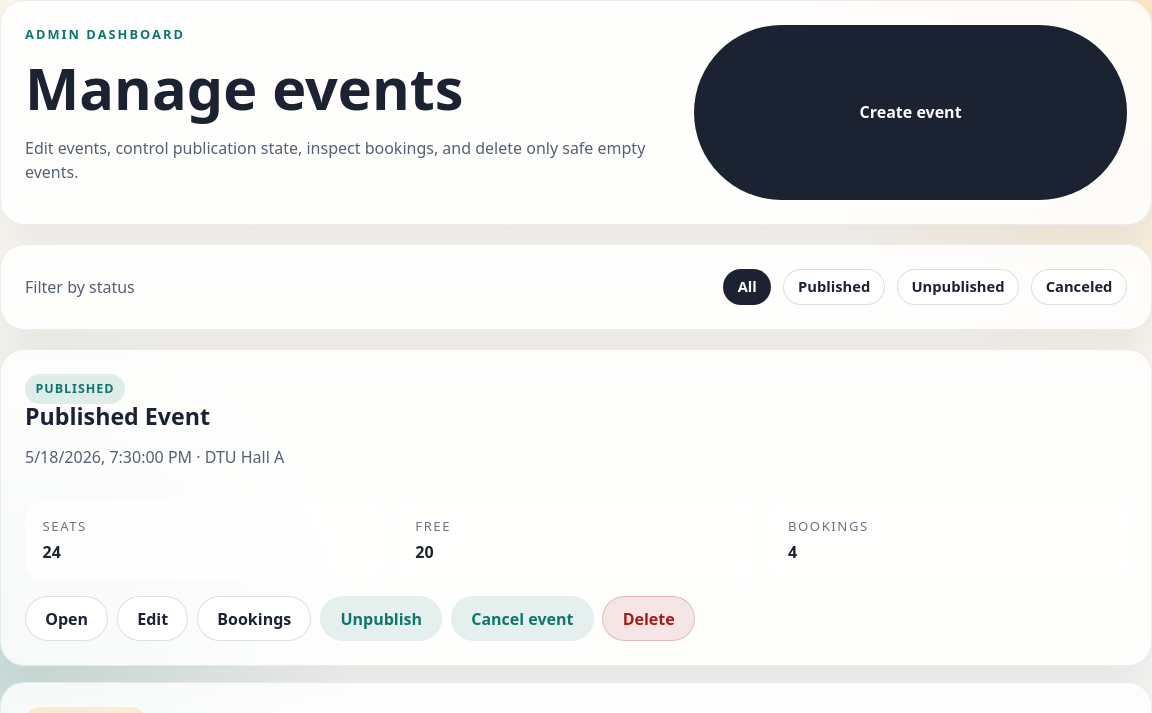
AdminEventsPage › shows backend errors from admin lifecycle actions
Click the button "Delete".
click(649, 619)  # box x1=602 y1=596 x2=695 y2=641
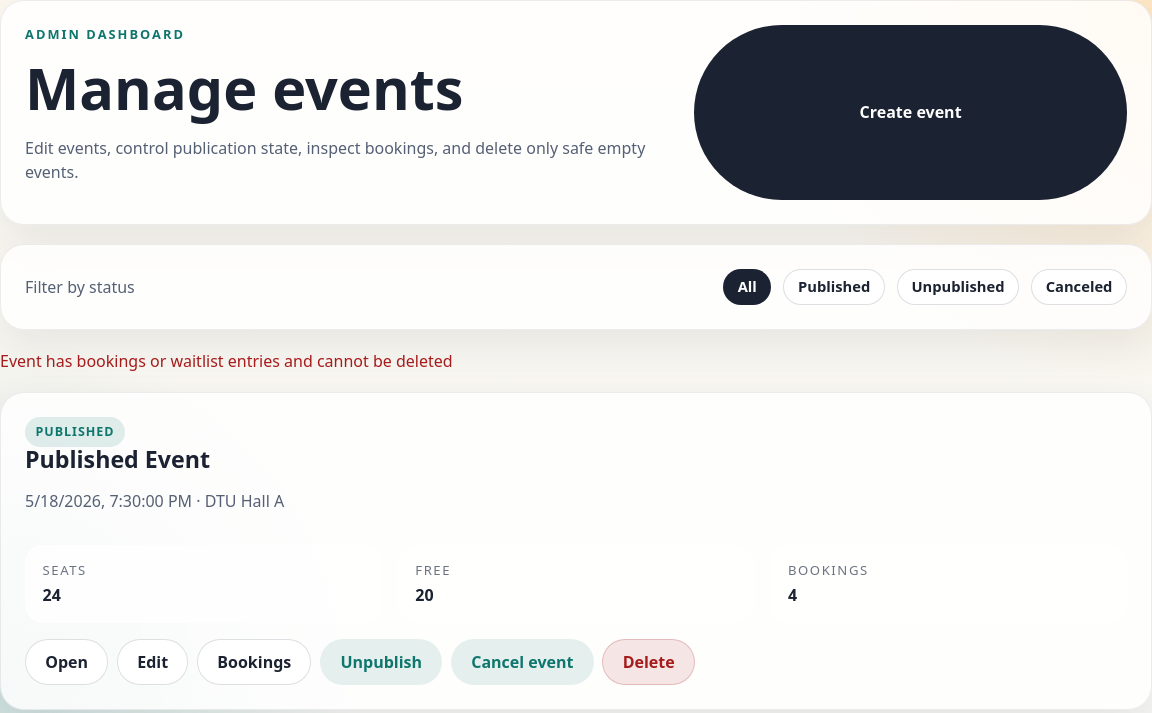
Expected: the message reads "Event has bookings or waitlist entries and cannot be deleted", x1=0 y1=350 x2=453 y2=372
